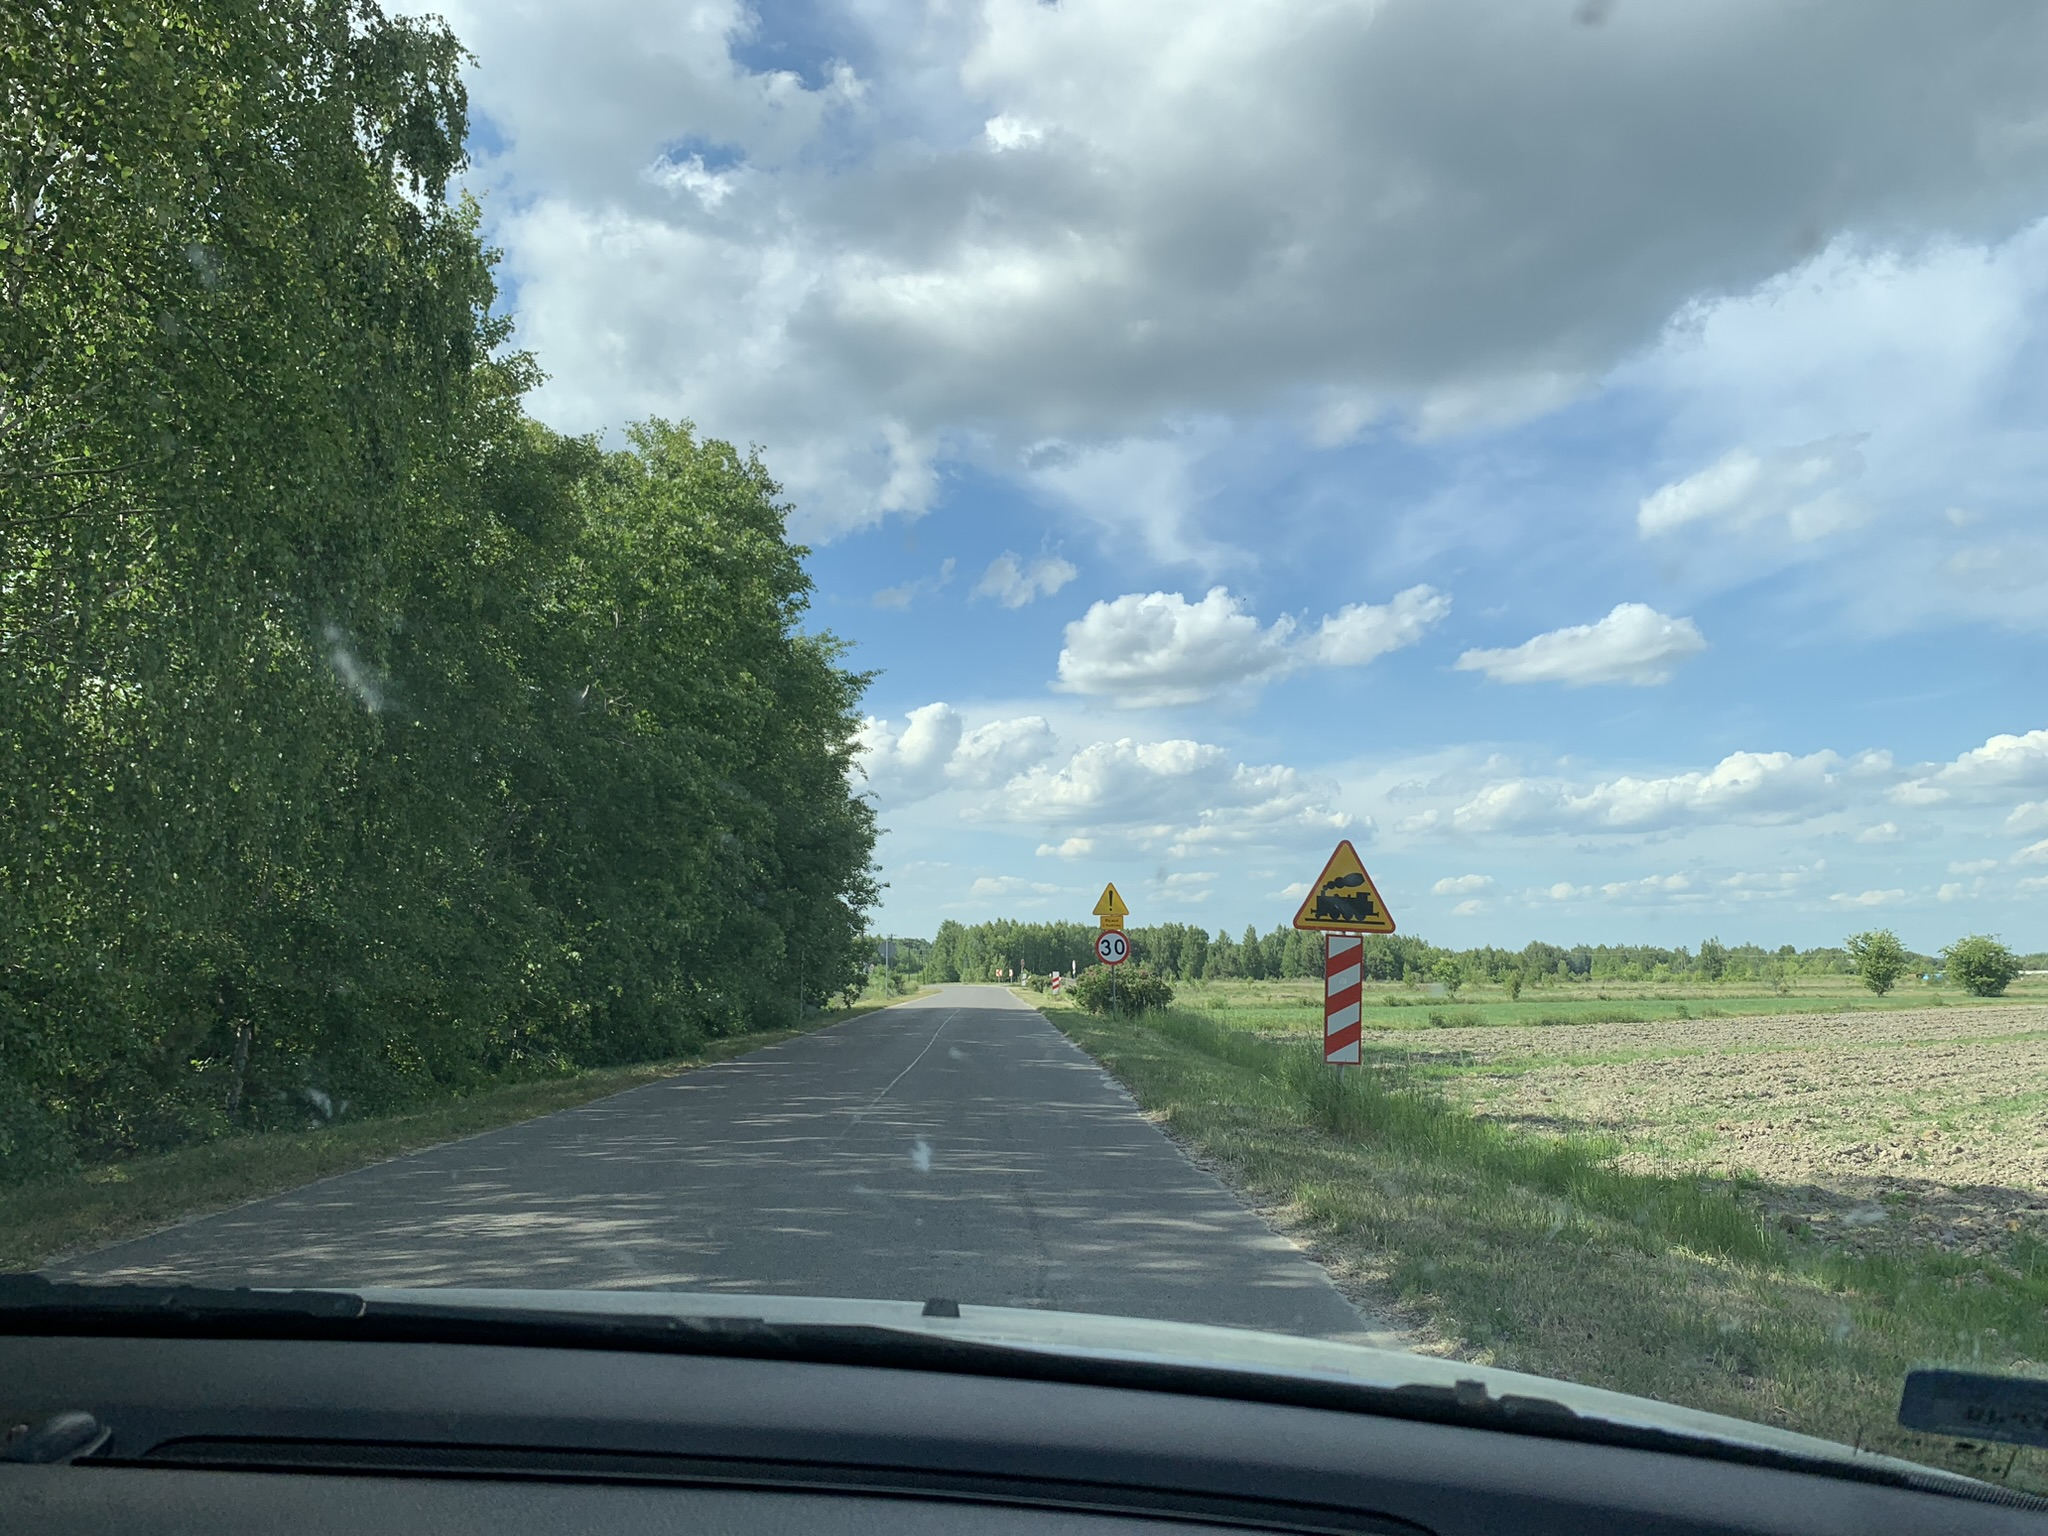a10: (1303, 871, 1388, 927)
